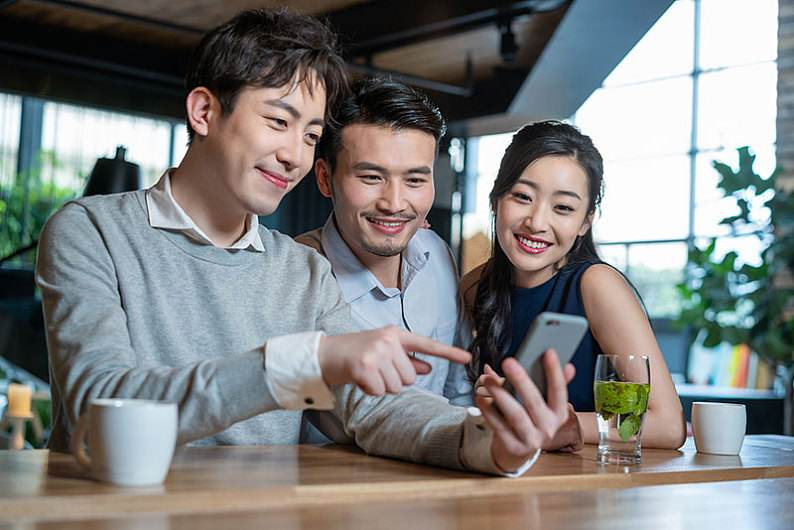reading: (473, 307, 592, 475)
